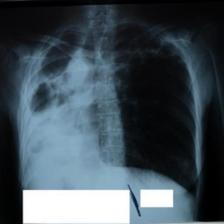tuberculosis: (12, 15, 199, 188)
